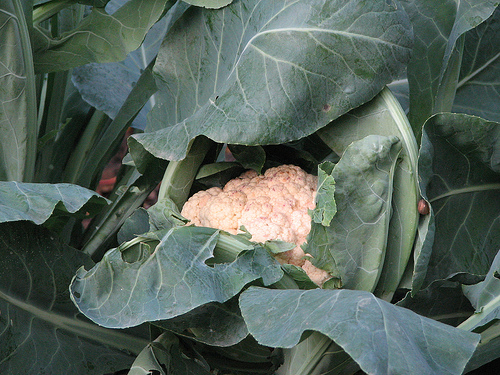cauliflower: (180, 164, 338, 284)
